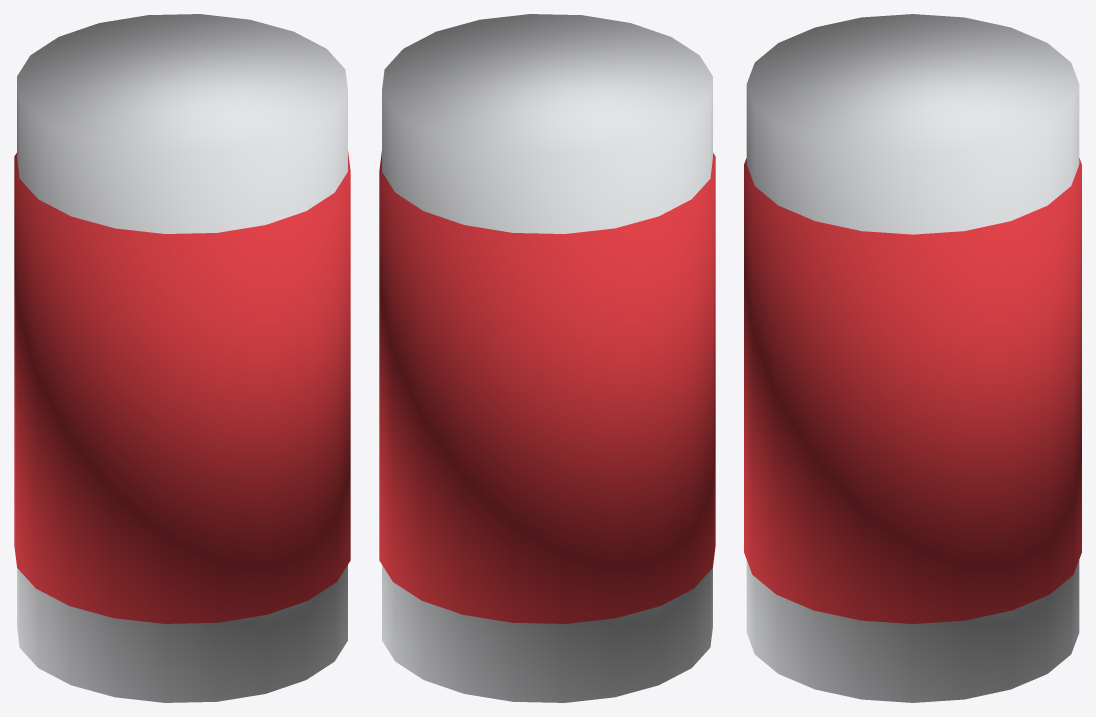
File: Prop_Soda_Can.glb
3 renders of one model, left to right at view 1: azimuth 30°, elevation 25°; view 2: azimuth 150°, elevation 25°; view 3: azimuth 270°, elevation 25°, orthographic.
Visible parts, largest first — view 1: Prop_Soda_Can_Export; view 2: Prop_Soda_Can_Export; view 3: Prop_Soda_Can_Export.
Part boxes in pixels (box(x1,y1,x2,y2)): Prop_Soda_Can_Export: box(14, 14, 350, 702); Prop_Soda_Can_Export: box(379, 14, 715, 702); Prop_Soda_Can_Export: box(744, 14, 1081, 702).
Size of the model in its own units: 0.067 by 0.12 by 0.067.
